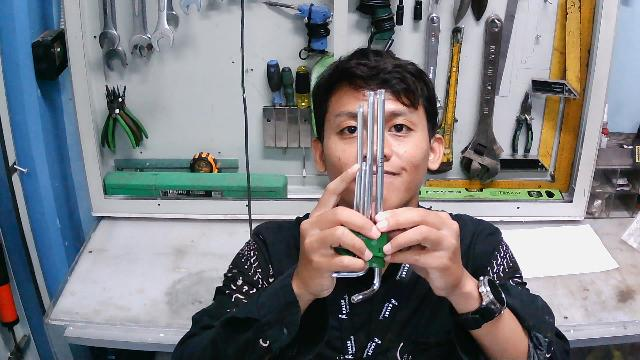kunci_l_bintang: (332, 89, 391, 305)
